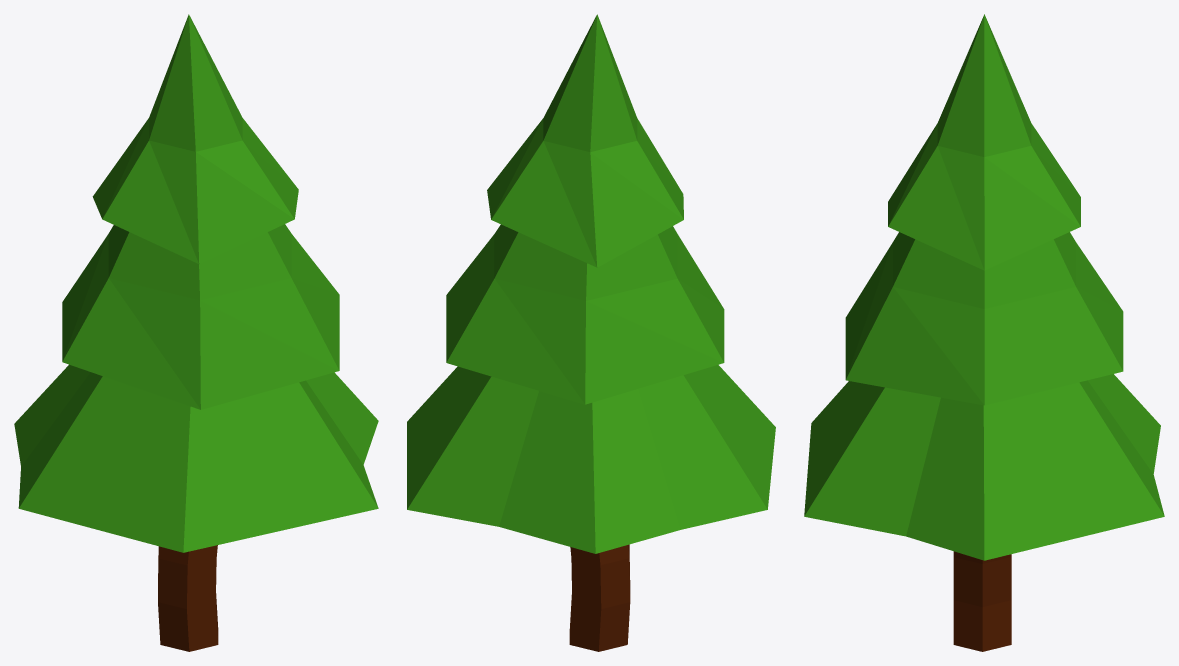
Rendered from tree_pine_01.FBX.
The picture shows the model from 3 angles, left to right: view 1: azimuth 30°, elevation 25°; view 2: azimuth 150°, elevation 25°; view 3: azimuth 270°, elevation 25°; orthographic projection.
Visible parts, largest first — view 1: tree_pine_01; view 2: tree_pine_01; view 3: tree_pine_01.
Part boxes in pixels (left/top/right/bottom): tree_pine_01: left=14, top=14, right=378, bottom=651; tree_pine_01: left=407, top=14, right=775, bottom=651; tree_pine_01: left=804, top=14, right=1164, bottom=651.
Size of the model in its own units: 139 by 229 by 120.
